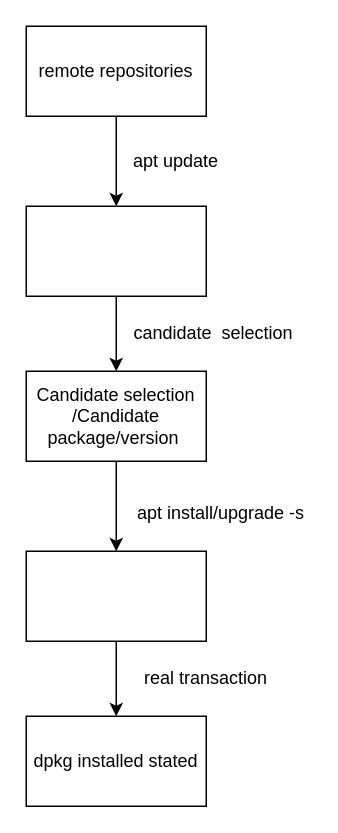
Some shapes in this 338 by 833 pixel diagram are drawn without their labels. Each missing label, with the centre of its shape:
Local APT metadata: (115,250)
Proposed dependency transaction: (115,595)
